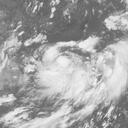cyclone: (43, 44, 108, 101)
